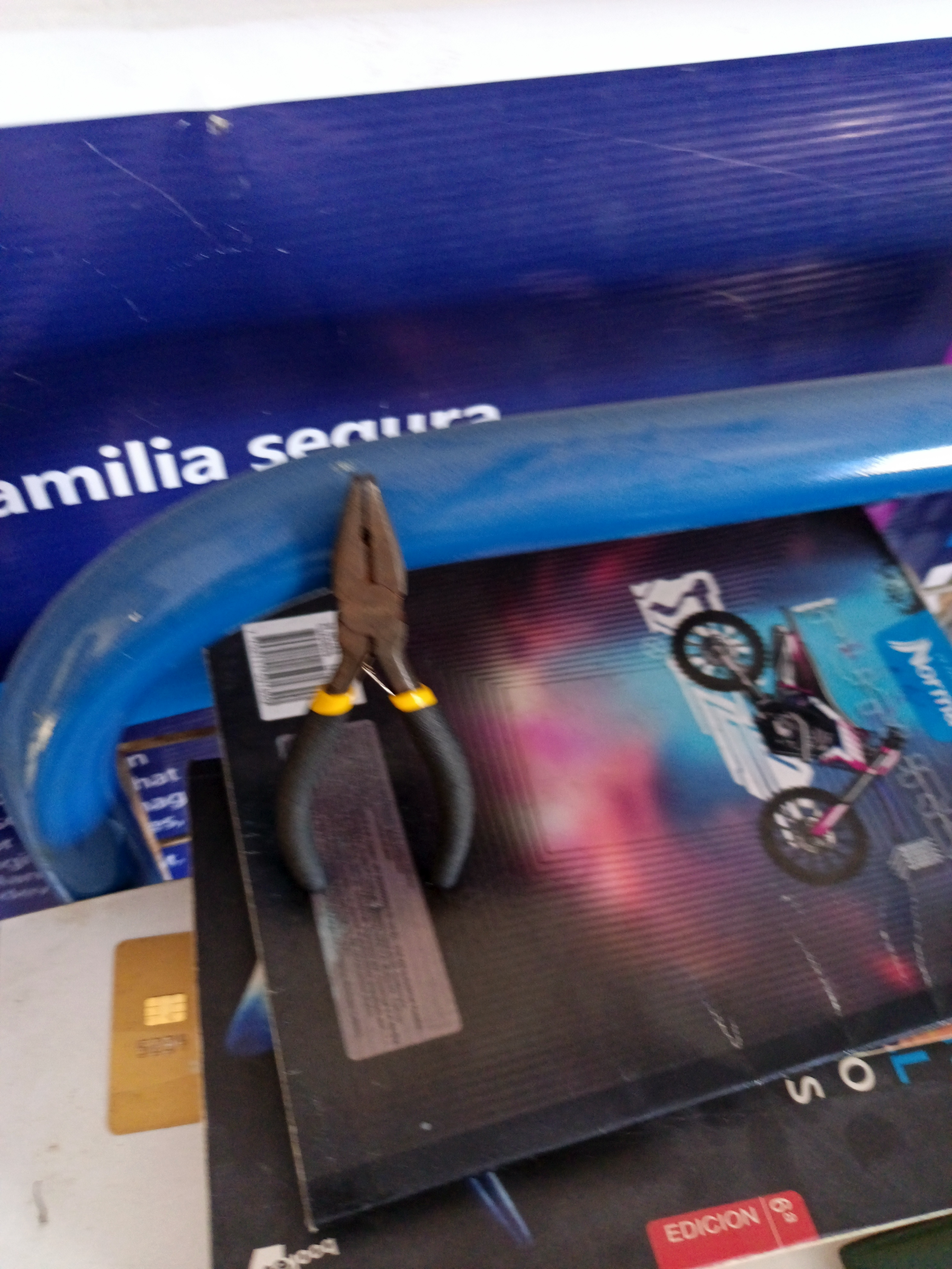Pinzas: (276, 476, 474, 893)
